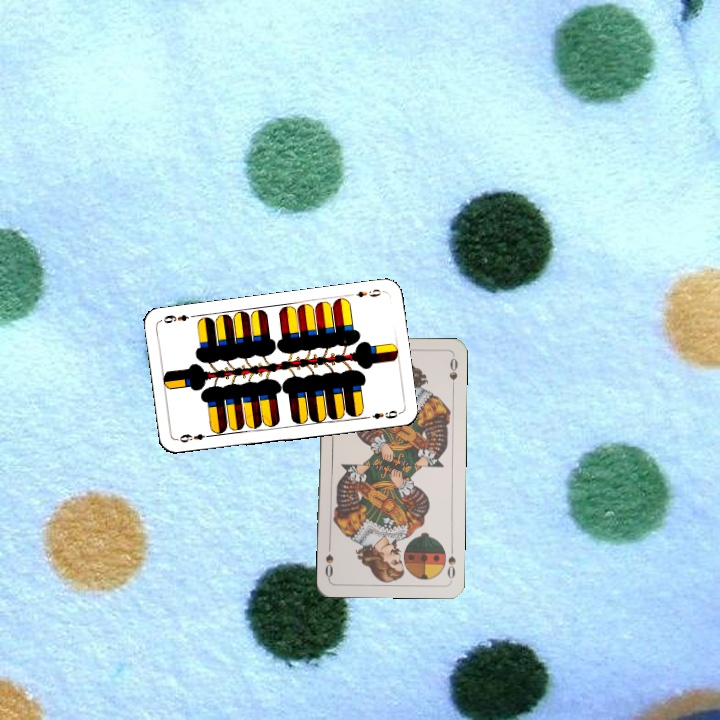E9: (345, 285, 386, 300), (176, 429, 214, 445)
SO: (444, 542, 458, 581)
